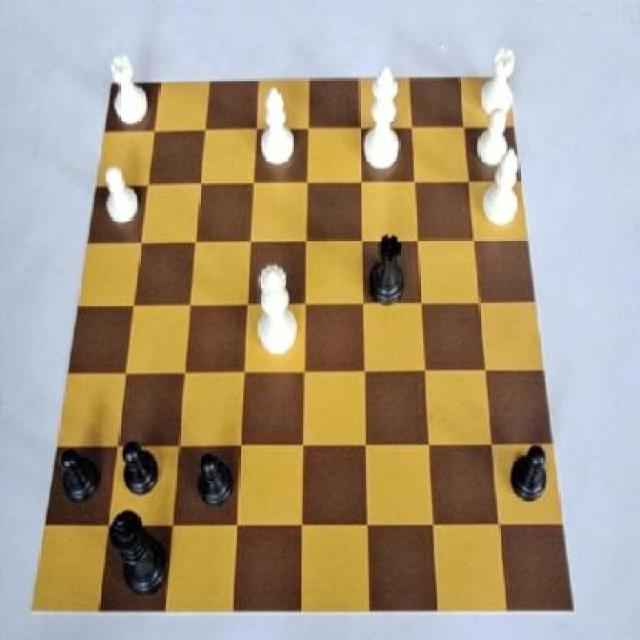black-bishop: (108, 505, 169, 606)
black-knight: (501, 442, 554, 519), (56, 444, 104, 510), (117, 442, 165, 506), (191, 446, 233, 513)
black-queen: (364, 224, 408, 310)
black-rook: (480, 143, 521, 235), (256, 86, 300, 169)
white-bishop: (358, 59, 404, 178)
white-knight: (472, 100, 516, 177), (100, 168, 142, 235)
white-pawn: (255, 260, 301, 362)
white-queen: (103, 48, 149, 127), (474, 42, 518, 119)
